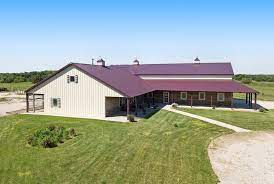Tin-shade House: (21, 57, 263, 124)
